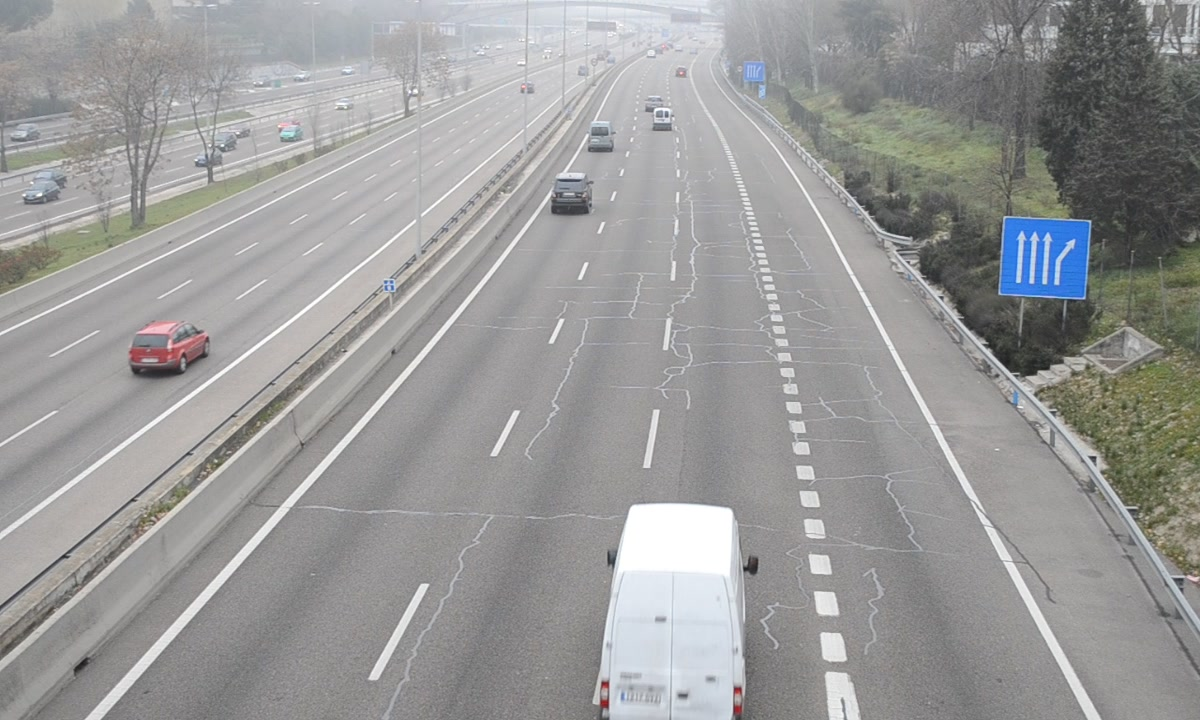car: (551, 173, 591, 214)
van: (597, 504, 748, 720), (587, 120, 612, 152)
